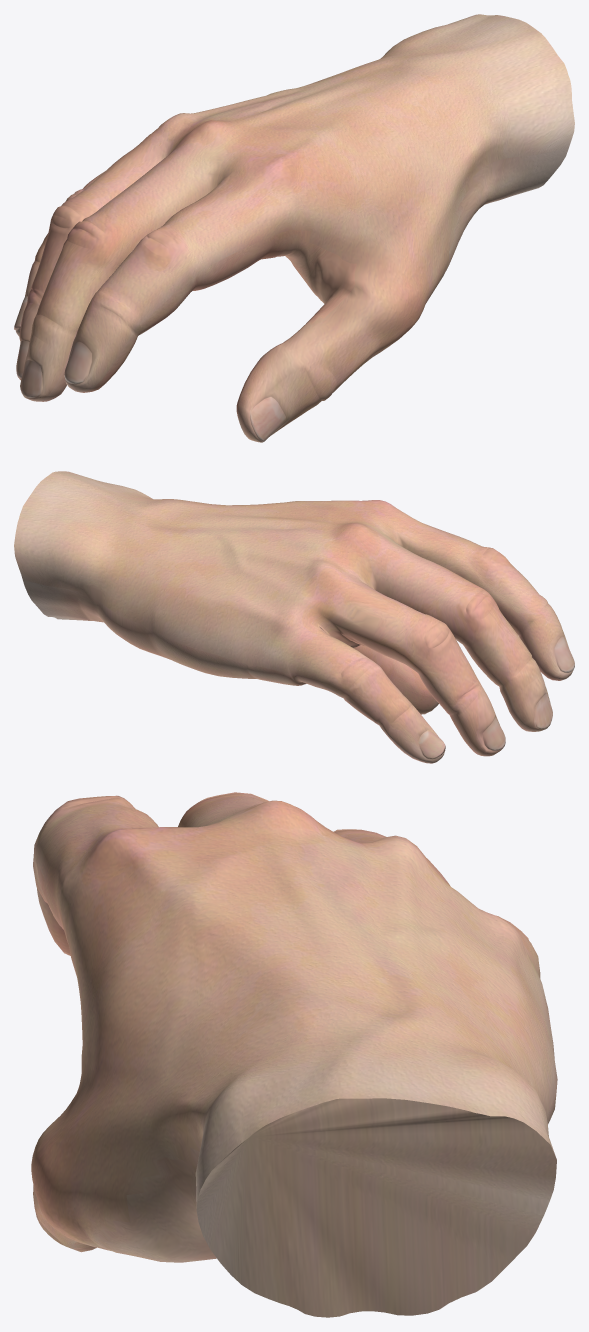
The model's file is hand_02.obj.
The picture shows the model from 3 angles, top to bottom: view 1: azimuth 30°, elevation 25°; view 2: azimuth 150°, elevation 25°; view 3: azimuth 270°, elevation 25°; orthographic projection. The views are drawn at different scales.
Visible parts, largest first — view 1: Figure_2; view 2: Figure_2; view 3: Figure_2.
Part boxes in pixels (x1,y1,x2,y2): Figure_2: (14, 14, 574, 442); Figure_2: (14, 471, 574, 763); Figure_2: (31, 792, 557, 1317).
Bounding box in the file's own units: 0.8071 × 0.3693 × 0.3957.
Materials: 2 (2 with a texture image).
